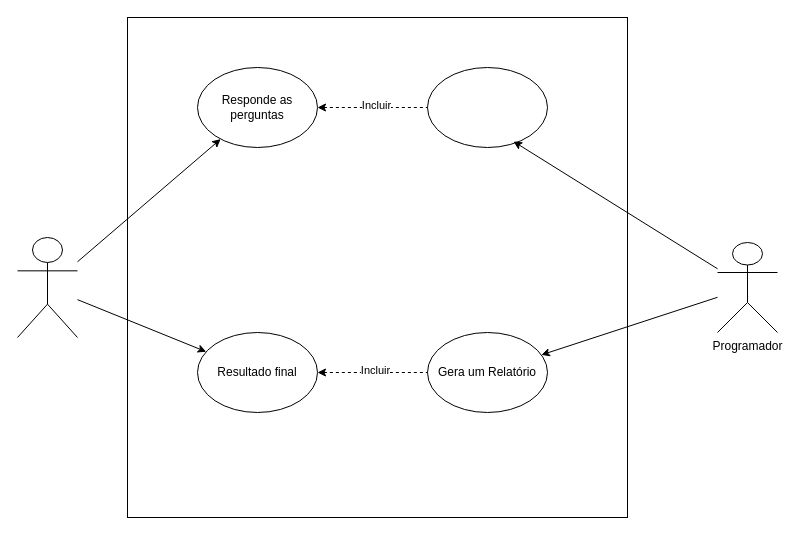
The diagram is 800 pixels wide and 535 high, and some of its shapes have lost their labels. Here are the shapes that lost their labels. From the top down, the centre of each, then its label:
At point 487,107: "Banco de dados".
At point 47,287: "Jogador".
